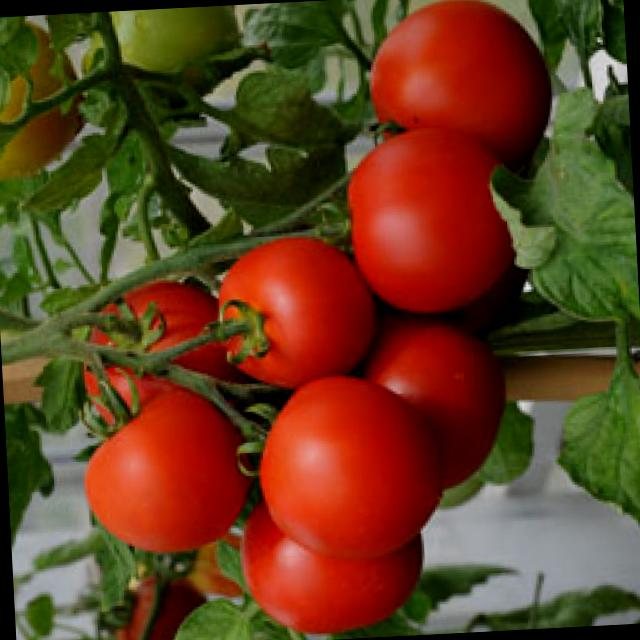tomato: (242, 370, 444, 566), (328, 120, 518, 322), (81, 386, 249, 556), (203, 234, 370, 398)
